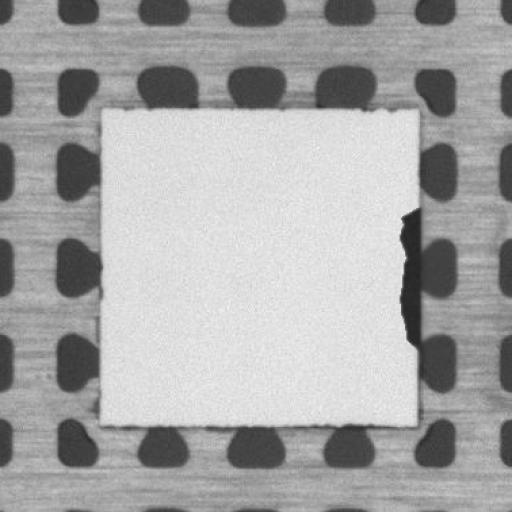DIE_BROKEN: (394, 204, 423, 357)
